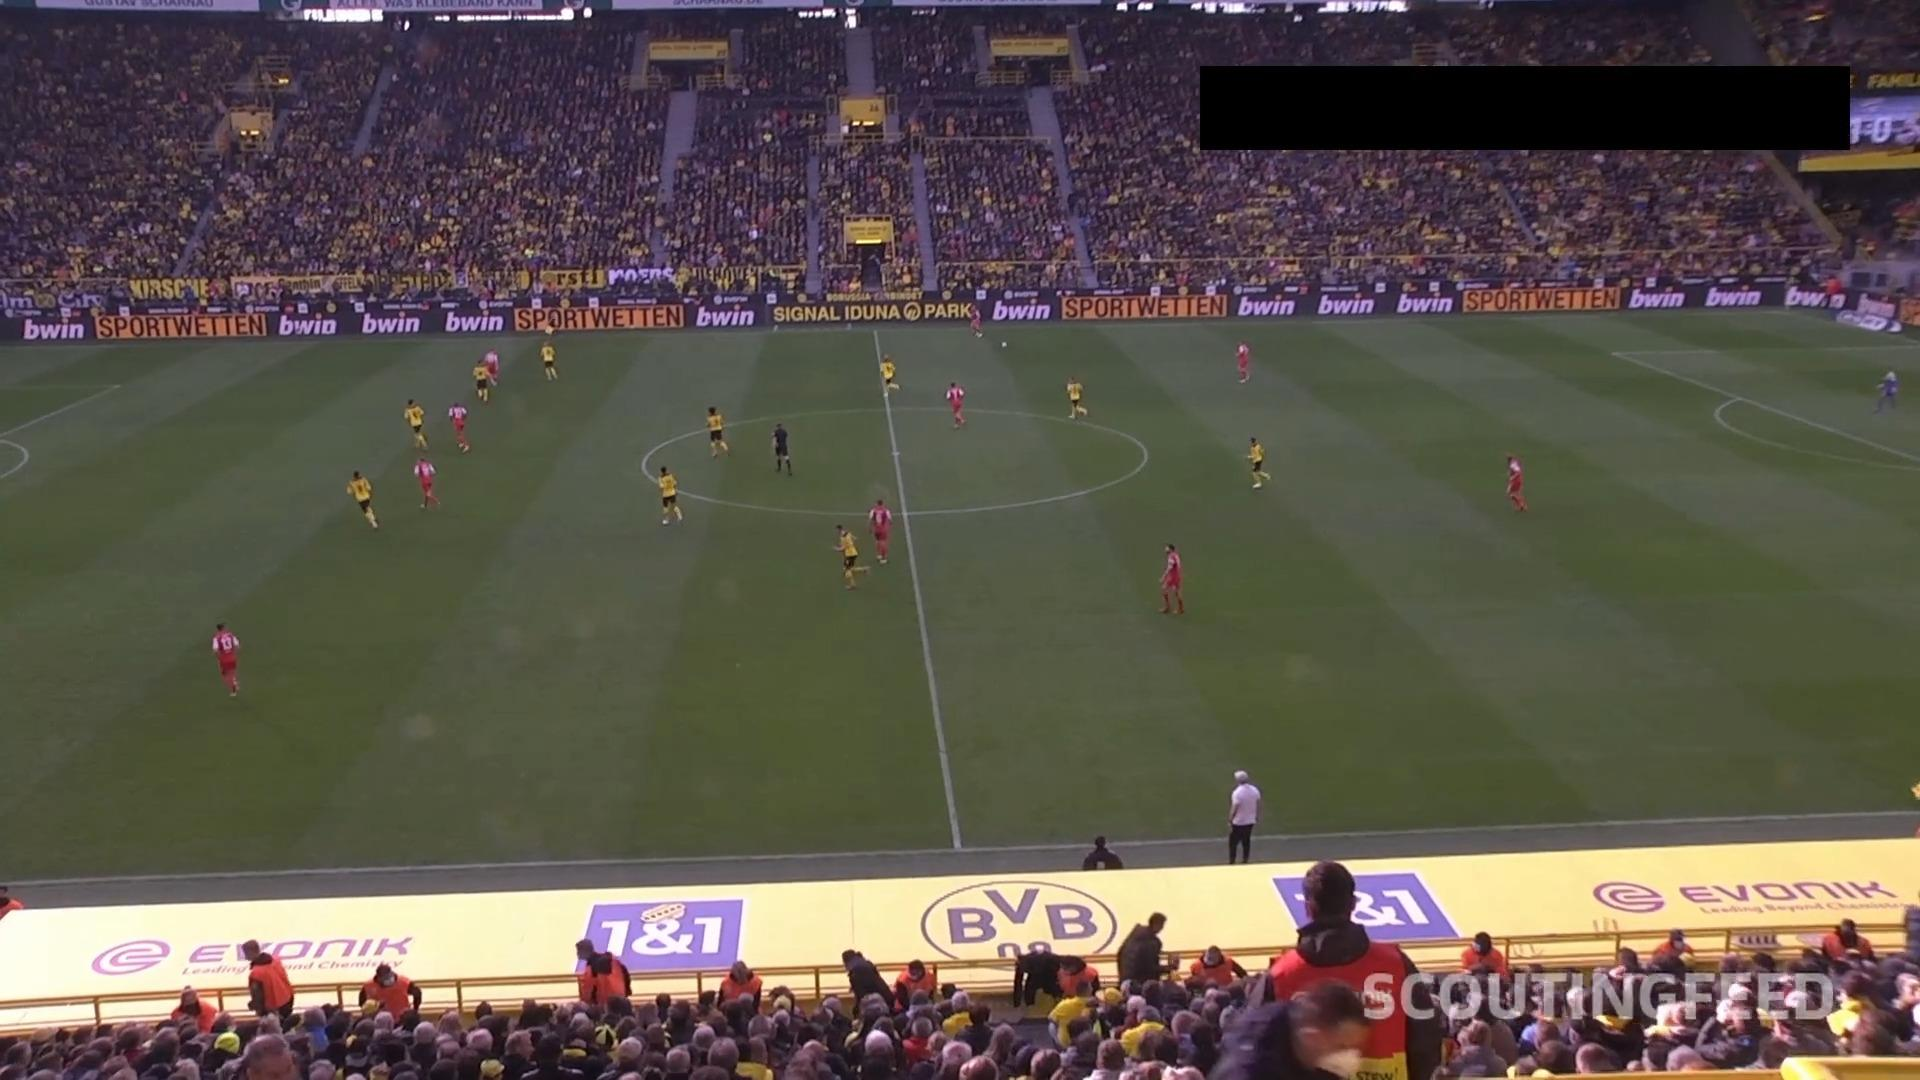fan: (1115, 911, 1167, 988), (841, 947, 896, 1016), (1012, 940, 1061, 1008)
player: (211, 620, 240, 697), (345, 469, 379, 529), (1157, 542, 1184, 614), (832, 523, 861, 589), (654, 464, 682, 525), (868, 497, 892, 563), (412, 456, 439, 509), (704, 405, 730, 458), (1504, 453, 1527, 512), (1245, 436, 1270, 489), (403, 397, 428, 450), (1872, 367, 1899, 412), (447, 401, 469, 453), (944, 380, 965, 428), (1065, 374, 1086, 419), (472, 359, 493, 402), (879, 353, 899, 392), (539, 339, 558, 380), (1235, 340, 1251, 383), (482, 349, 500, 385), (967, 304, 982, 338)
referee: (1226, 769, 1260, 863), (769, 422, 792, 475)
